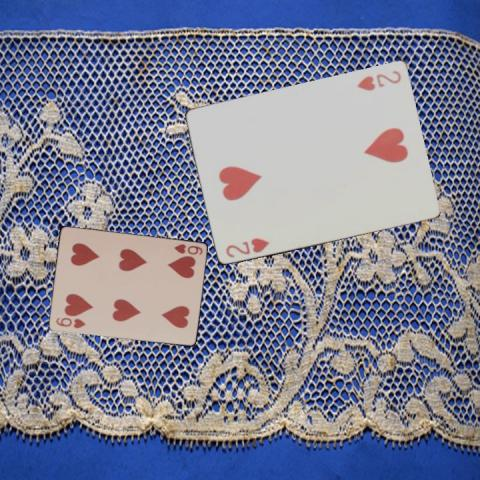2h: (354, 67, 403, 93), (223, 236, 270, 260)
6h: (171, 241, 203, 257), (53, 315, 87, 330)
